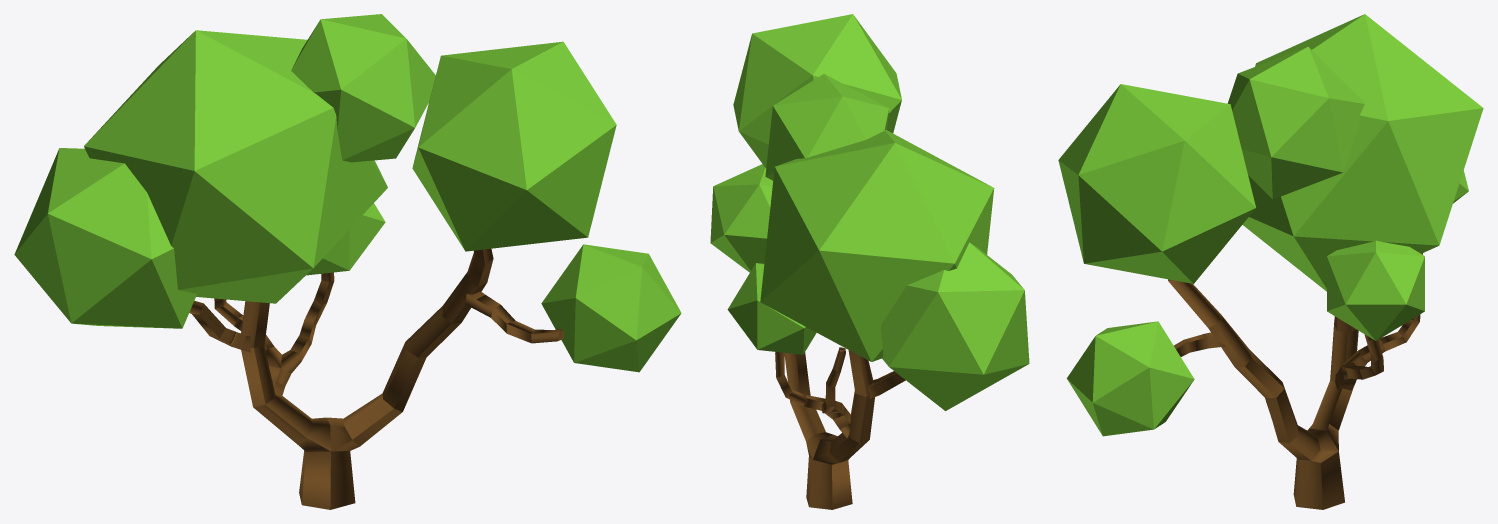
Rendered from Tree1.fbx.
3 renders of one model, left to right at view 1: azimuth 30°, elevation 25°; view 2: azimuth 150°, elevation 25°; view 3: azimuth 270°, elevation 25°, orthographic. The views are drawn at different scales.
Parts seen in each view (by area): view 1: Platonic, Platonic_4, Platonic_1, Tree, Platonic_3, Platonic_5, Platonic_2; view 2: Platonic, Platonic_1, Platonic_4, Tree, Platonic_3, Platonic_5, Platonic_2; view 3: Platonic, Platonic_4, Platonic_3, Tree, Platonic_5, Platonic_2.
Part boxes in pixels (x1=…): Platonic: x1=84, y1=30, x2=387, y2=303; Platonic_4: x1=412, y1=41, x2=616, y2=251; Platonic_1: x1=14, y1=148, x2=196, y2=328; Tree: x1=189, y1=248, x2=563, y2=509; Platonic_3: x1=291, y1=14, x2=435, y2=162; Platonic_5: x1=541, y1=244, x2=681, y2=372; Platonic_2: x1=306, y1=203, x2=385, y2=275; Platonic: x1=760, y1=130, x2=994, y2=361; Platonic_1: x1=881, y1=242, x2=1029, y2=410; Platonic_4: x1=733, y1=14, x2=901, y2=168; Tree: x1=775, y1=347, x2=905, y2=509; Platonic_3: x1=765, y1=74, x2=888, y2=180; Platonic_5: x1=710, y1=164, x2=773, y2=272; Platonic_2: x1=727, y1=263, x2=816, y2=354; Platonic: x1=1242, y1=14, x2=1483, y2=291; Platonic_4: x1=1058, y1=84, x2=1255, y2=283; Platonic_3: x1=1227, y1=46, x2=1364, y2=199; Tree: x1=1168, y1=253, x2=1422, y2=509; Platonic_5: x1=1067, y1=321, x2=1194, y2=436; Platonic_2: x1=1327, y1=240, x2=1424, y2=340.
Bounding box in the file's own units: 852 × 812 × 695.
